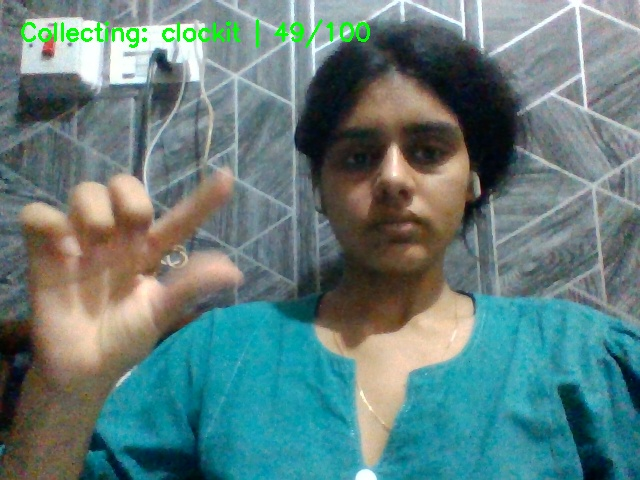clockit: (10, 160, 270, 363)
